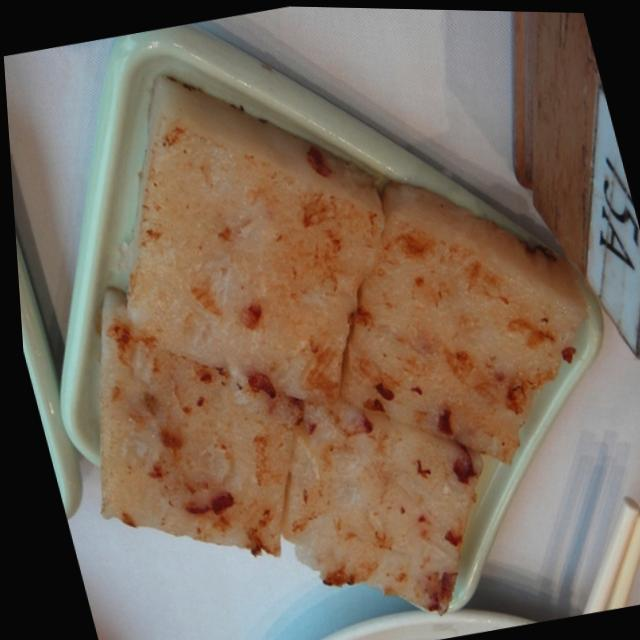蛋糕甜品: (1, 13, 631, 640)
